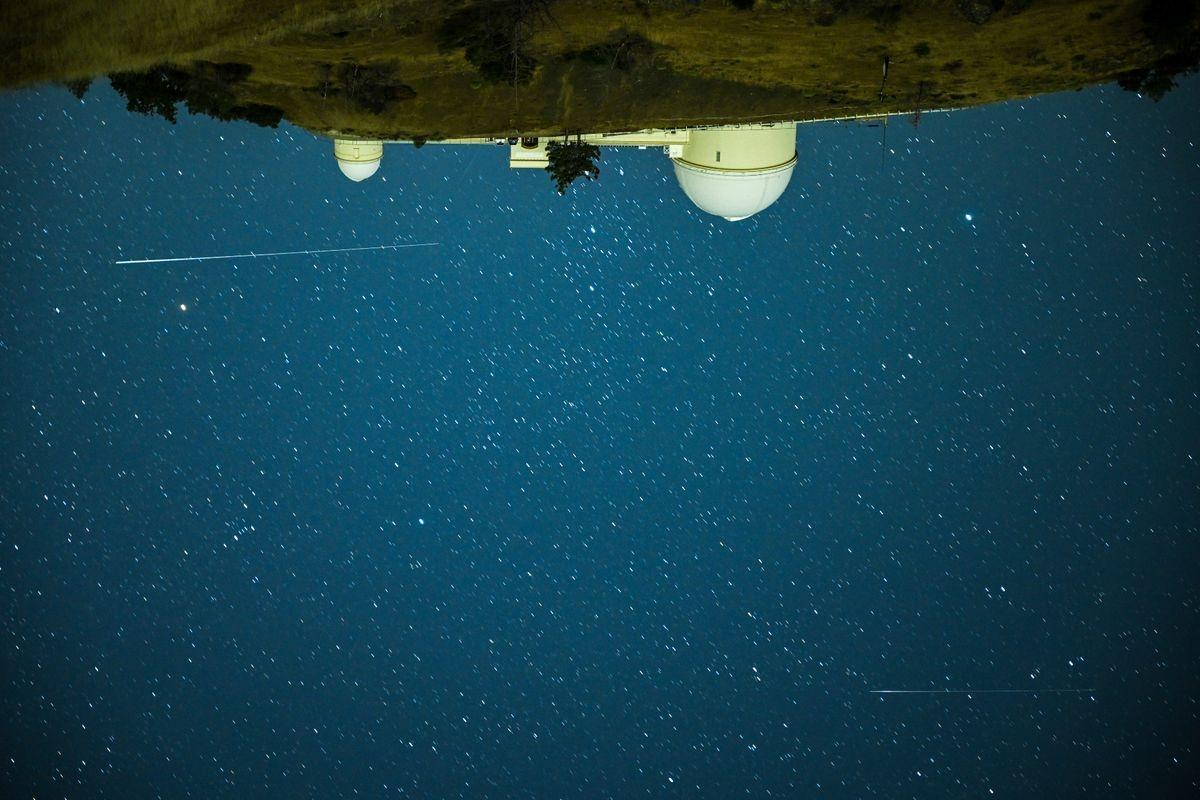meteorite: (844, 663, 1123, 720), (89, 239, 454, 280)
